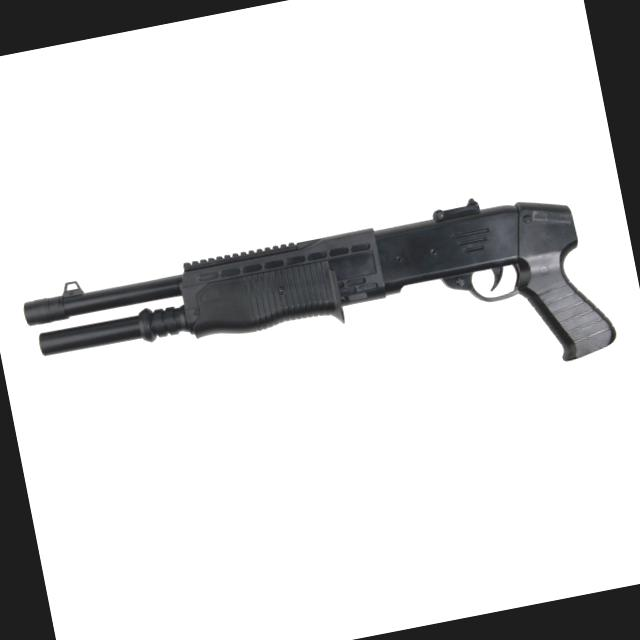long weapon: (6, 178, 640, 424)
